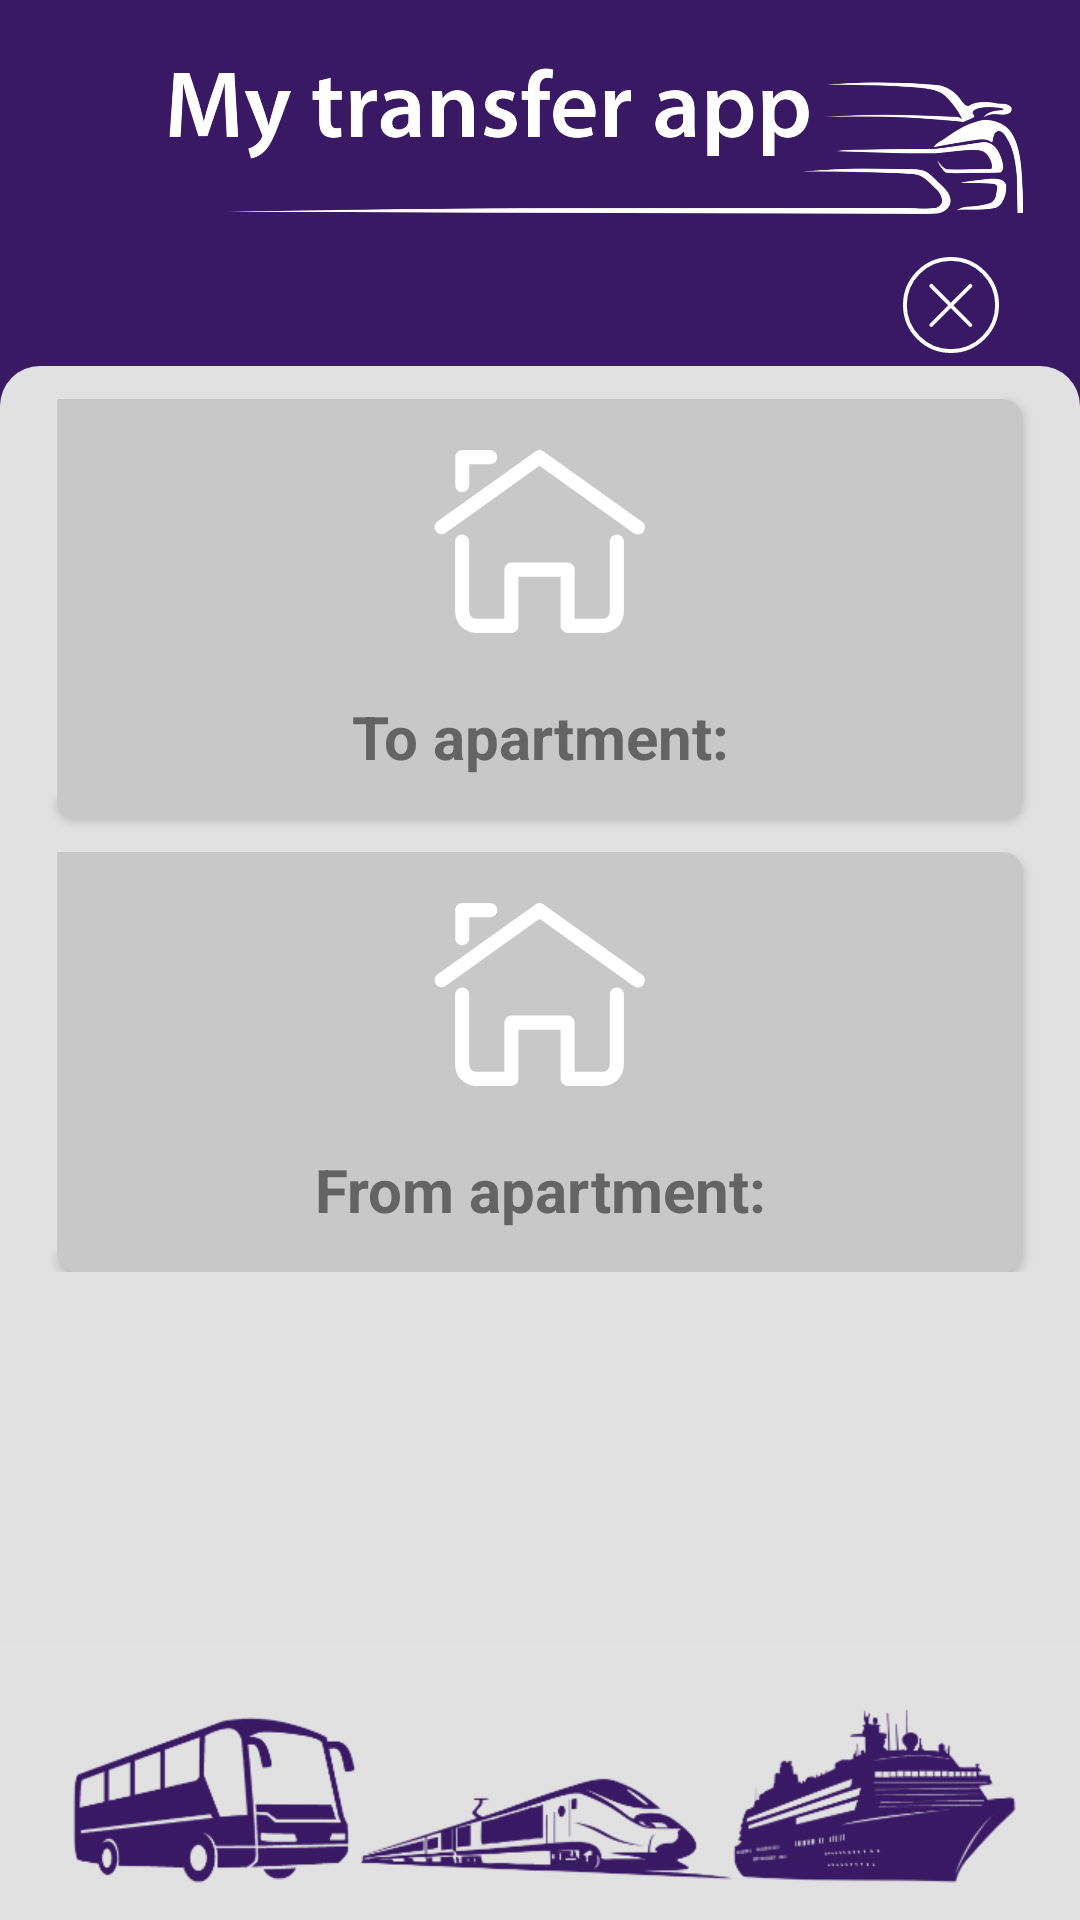

Where icons sit on this 1080px×1920px app screen, as (x1, y1, x2, y2):
close: (903, 257, 999, 353)
